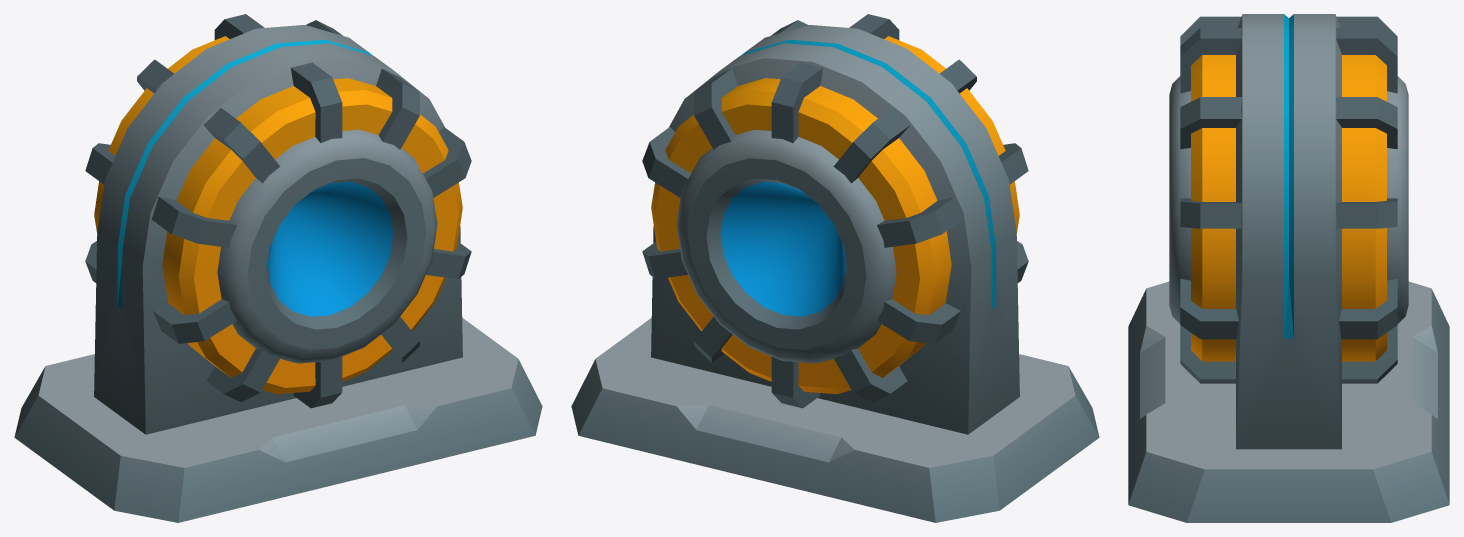
Rendered from Generator_003.fbx.
3 renders of one model, left to right at view 1: azimuth 30°, elevation 25°; view 2: azimuth 150°, elevation 25°; view 3: azimuth 270°, elevation 25°, orthographic. The views are drawn at different scales.
Parts seen in each view (by area): view 1: Generator_003; view 2: Generator_003; view 3: Generator_003.
Boxes of the visible parts, x1,y1,x2,y2 form: Generator_003: (14, 14, 542, 522); Generator_003: (571, 14, 1099, 522); Generator_003: (1128, 14, 1449, 522).
Size of the model in its own units: 207 by 131 by 174.
